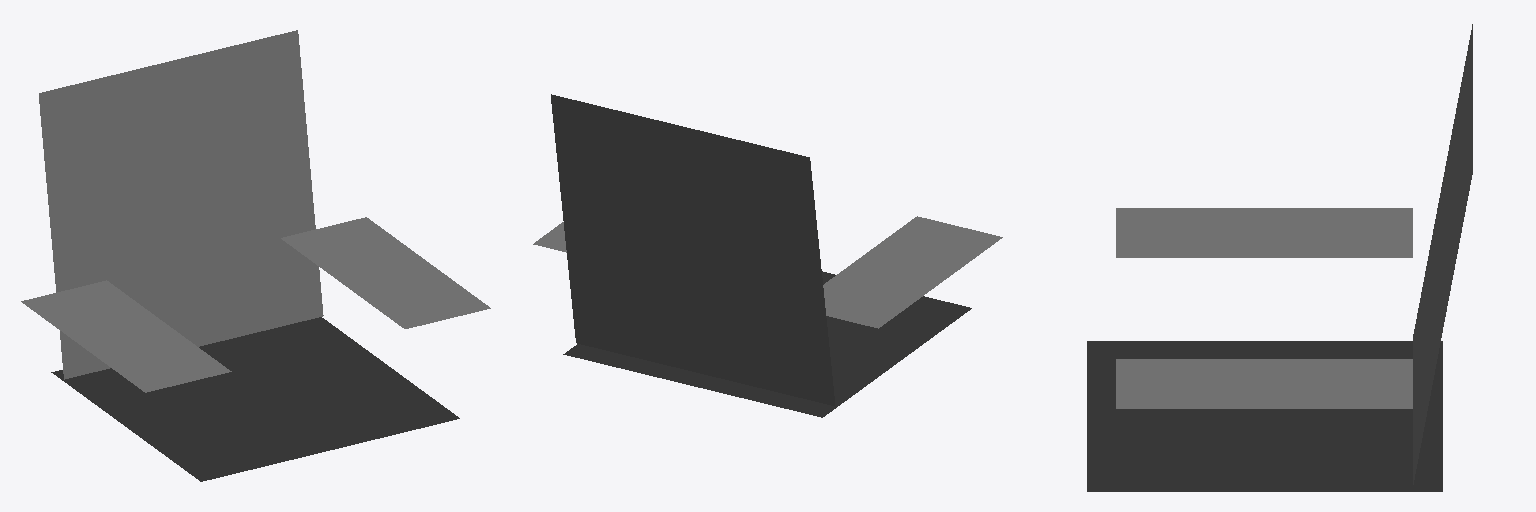
robot.urdf — plane_chair:
<?xml version="1.0" ?>
<robot name="plane_chair">
  <link name="planeChairLink">
  <contact>
      <lateral_friction value="1"/>
  </contact>
    <inertial>
      <origin rpy="0 0 0" xyz="0 0 0"/>
       <mass value=".0"/>
       <inertia ixx="0" ixy="0" ixz="0" iyy="0" iyz="0" izz="0"/>
    </inertial>
    
    # Seat
    <visual>
      <origin rpy="0 0 0" xyz="0 0 0.4"/>
      <geometry>
	<mesh filename="plane.obj" scale="0.3 0.3 1"/>
      </geometry>
       <material name="dark_grey">
        <color rgba="0.25 0.25 0.25 1"/>
      </material>
    </visual>
    
    # Arms
    <visual>
      <origin rpy="0 0 0" xyz="0.3 0 0.6"/>
      <geometry>
	<mesh filename="plane.obj" scale="0.1 0.25 1"/>
      </geometry>
       <material name="grey">
        <color rgba="0.5 0.5 0.5 1"/>
      </material>
    </visual>
    
    <visual>
      <origin rpy="0 0 0" xyz="-0.3 0 0.6"/>
      <geometry>
	<mesh filename="plane.obj" scale="0.1 0.25 1"/>
      </geometry>
       <material name="grey">
        <color rgba="0.5 0.5 0.5 1"/>
      </material>
    </visual>
    
    # Back
    <visual>
      <origin rpy="1.4 0 0" xyz="0 0.3 0.7"/>
      <geometry>
	<mesh filename="plane.obj" scale="0.3 0.3 1"/>
      </geometry>
       <material name="grey">
        <color rgba="0.5 0.5 0.5 1"/>
      </material>
    </visual>
    
    # COLLISION
    # Seat
    <collision>
      <origin rpy="0 0 0" xyz="0 0 0.4"/>
      <geometry>
	<mesh filename="plane.obj" scale="0.3 0.3 1"/>
      </geometry>
    </collision>
    
    # Arms
    <collision>
      <origin rpy="0 0 0" xyz="0.3 0 0.6"/>
      <geometry>
	<mesh filename="plane.obj" scale="0.1 0.25 1"/>
      </geometry>
    </collision>
    
    <collision>
      <origin rpy="0 0 0" xyz="-0.3 0 0.6"/>
      <geometry>
	<mesh filename="plane.obj" scale="0.1 0.25 1"/>
      </geometry>
    </collision>
    
    # Back
    <collision>
      <origin rpy="1.4 0 0" xyz="0 0.3 0.7"/>
      <geometry>
	<mesh filename="plane.obj" scale="0.3 0.3 1"/>
      </geometry>
    </collision>
    
    # Collision Model
#    <collision>
#      <origin rpy="0 0 0" xyz="0 0 -5"/>
#      <geometry>
# 	<box size="30 30 10"/>
#      </geometry>
#    </collision>
  </link>
</robot>

--- Render facts (derived) ---
Views: 3 orthographic renders of the robot side by side, from view 1: azimuth 30°, elevation 25°; view 2: azimuth 150°, elevation 25°; view 3: azimuth 270°, elevation 25°.
Robot: plane_chair — 1 links, 0 joints (none); root link planeChairLink; default pose: all joints at 0.
Visible links, largest first — view 1: planeChairLink; view 2: planeChairLink; view 3: planeChairLink.
Link boxes in pixels (x1,y1,x2,y2): planeChairLink: (21,30,490,481); planeChairLink: (533,94,1002,417); planeChairLink: (1087,24,1472,491).
Size in the robot's own frame: 0.8 by 0.651 by 0.5956 metres.
Meshes: 1 distinct files referenced, 4 mesh visuals loaded (1 OBJ).